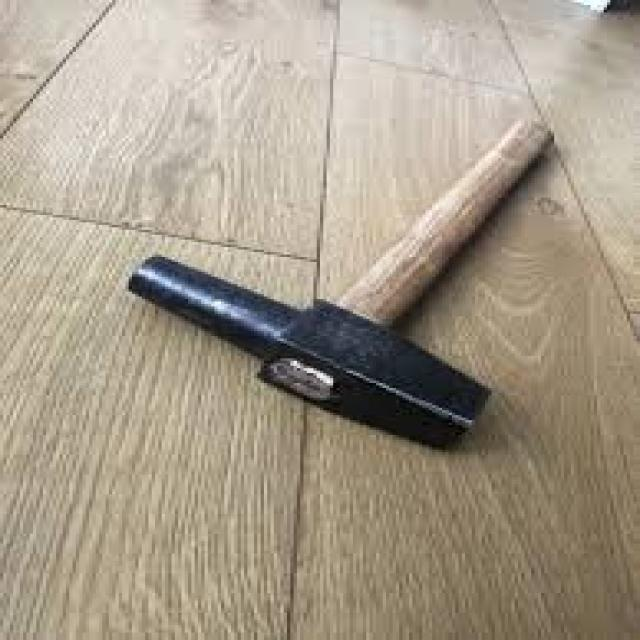hammer: (114, 98, 566, 460)
